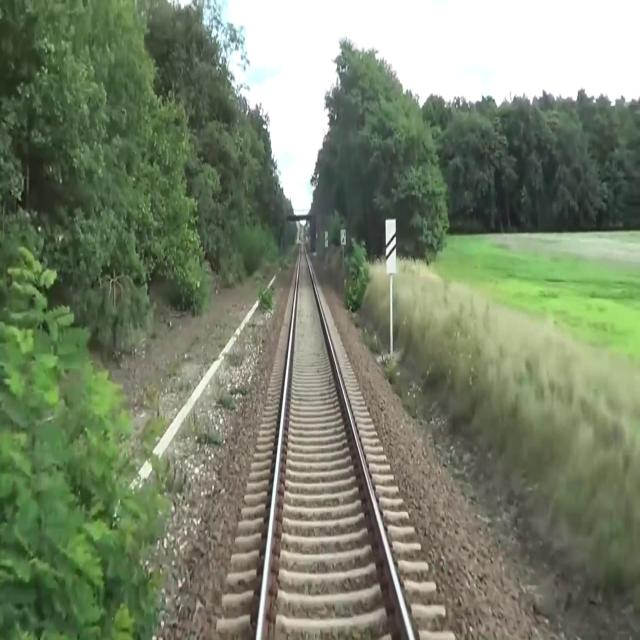rail-track: (260, 242, 411, 639)
